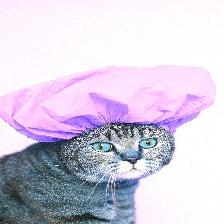kedo: (0, 123, 175, 223)
